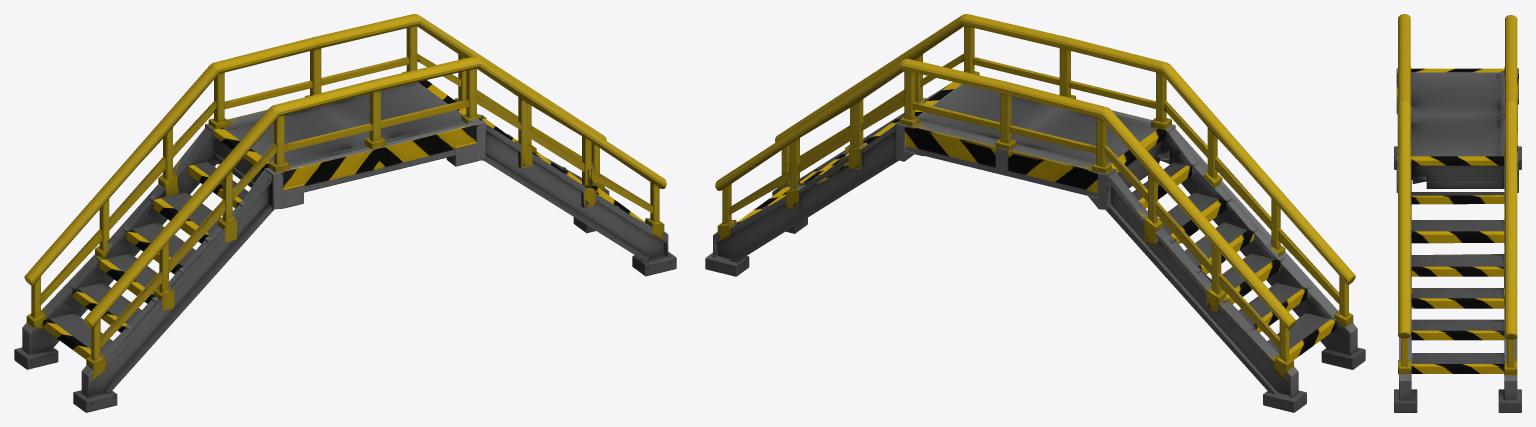
Rendered from escada.fbx.
3 renders of one model, left to right at view 1: azimuth 30°, elevation 25°; view 2: azimuth 150°, elevation 25°; view 3: azimuth 270°, elevation 25°, orthographic. The views are drawn at different scales.
Parts seen in each view (by area): view 1: escada.002; view 2: escada.002; view 3: escada.002.
Boxes of the visible parts, x1,y1,x2,y2 form: escada.002: (14, 14, 676, 412); escada.002: (705, 14, 1365, 412); escada.002: (1394, 14, 1521, 412).
Size of the model in its own units: 963 by 399 by 203.
